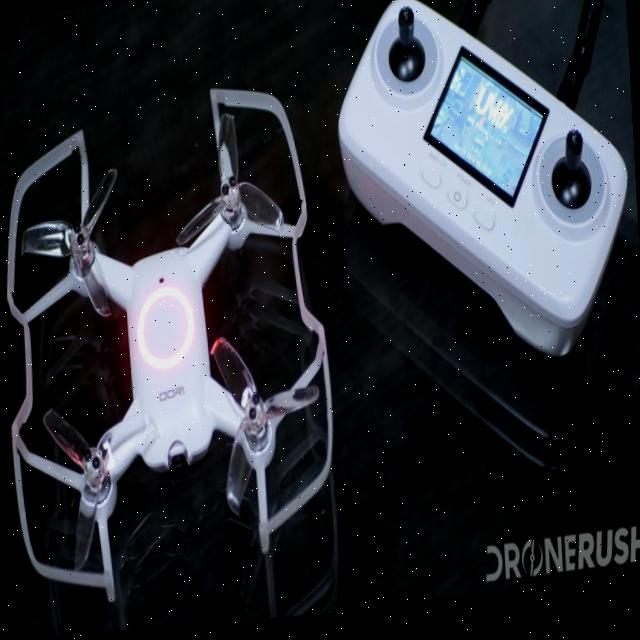drone: (0, 94, 359, 596)
